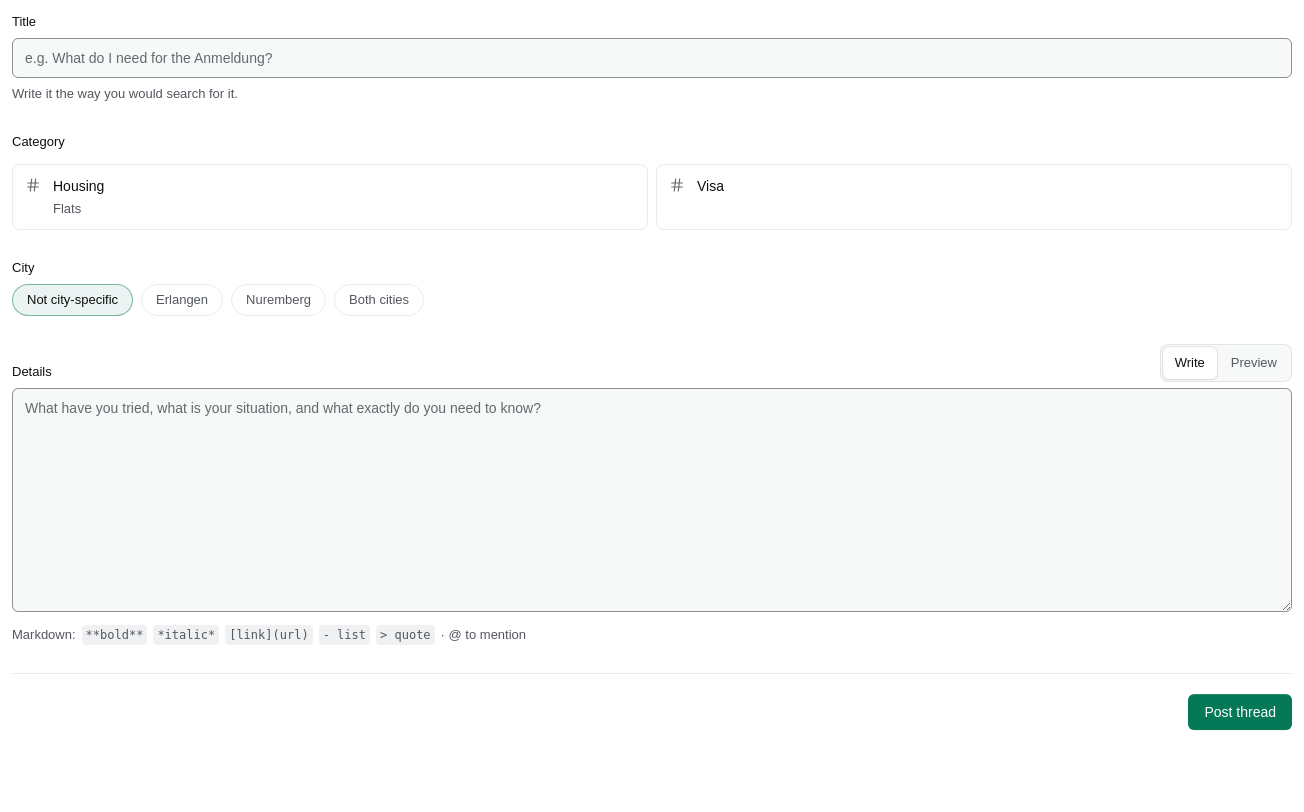
Test case: ThreadForm preview › returns to the editor from preview
Click the button "Preview".
click(1254, 363)  # box [1219,347,1289,379]
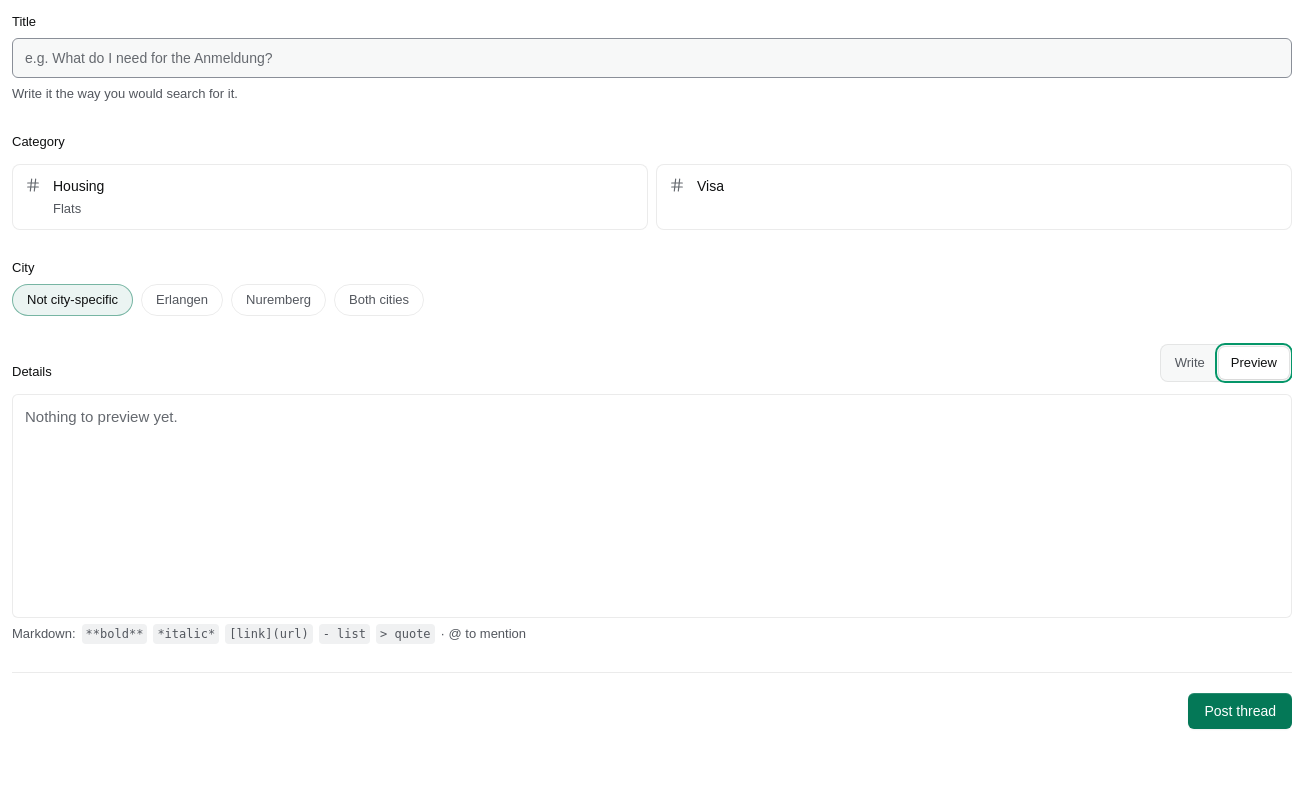
Click the button "Write".
click(1190, 363)  # box [1163,347,1217,379]
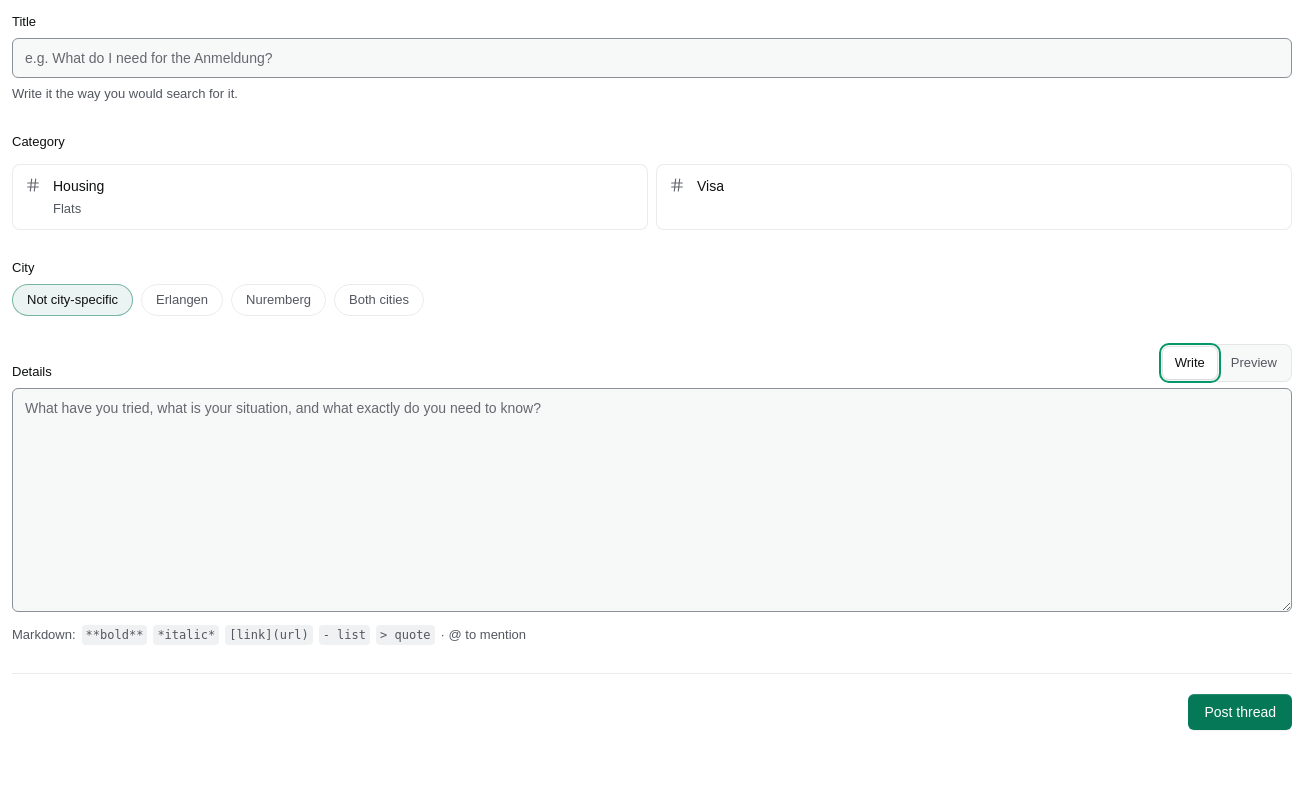
Check: the dropdown labelled "Details" is shown, box [12,388,1292,612]
Check: the text "Nothing to preview yet." is gone
